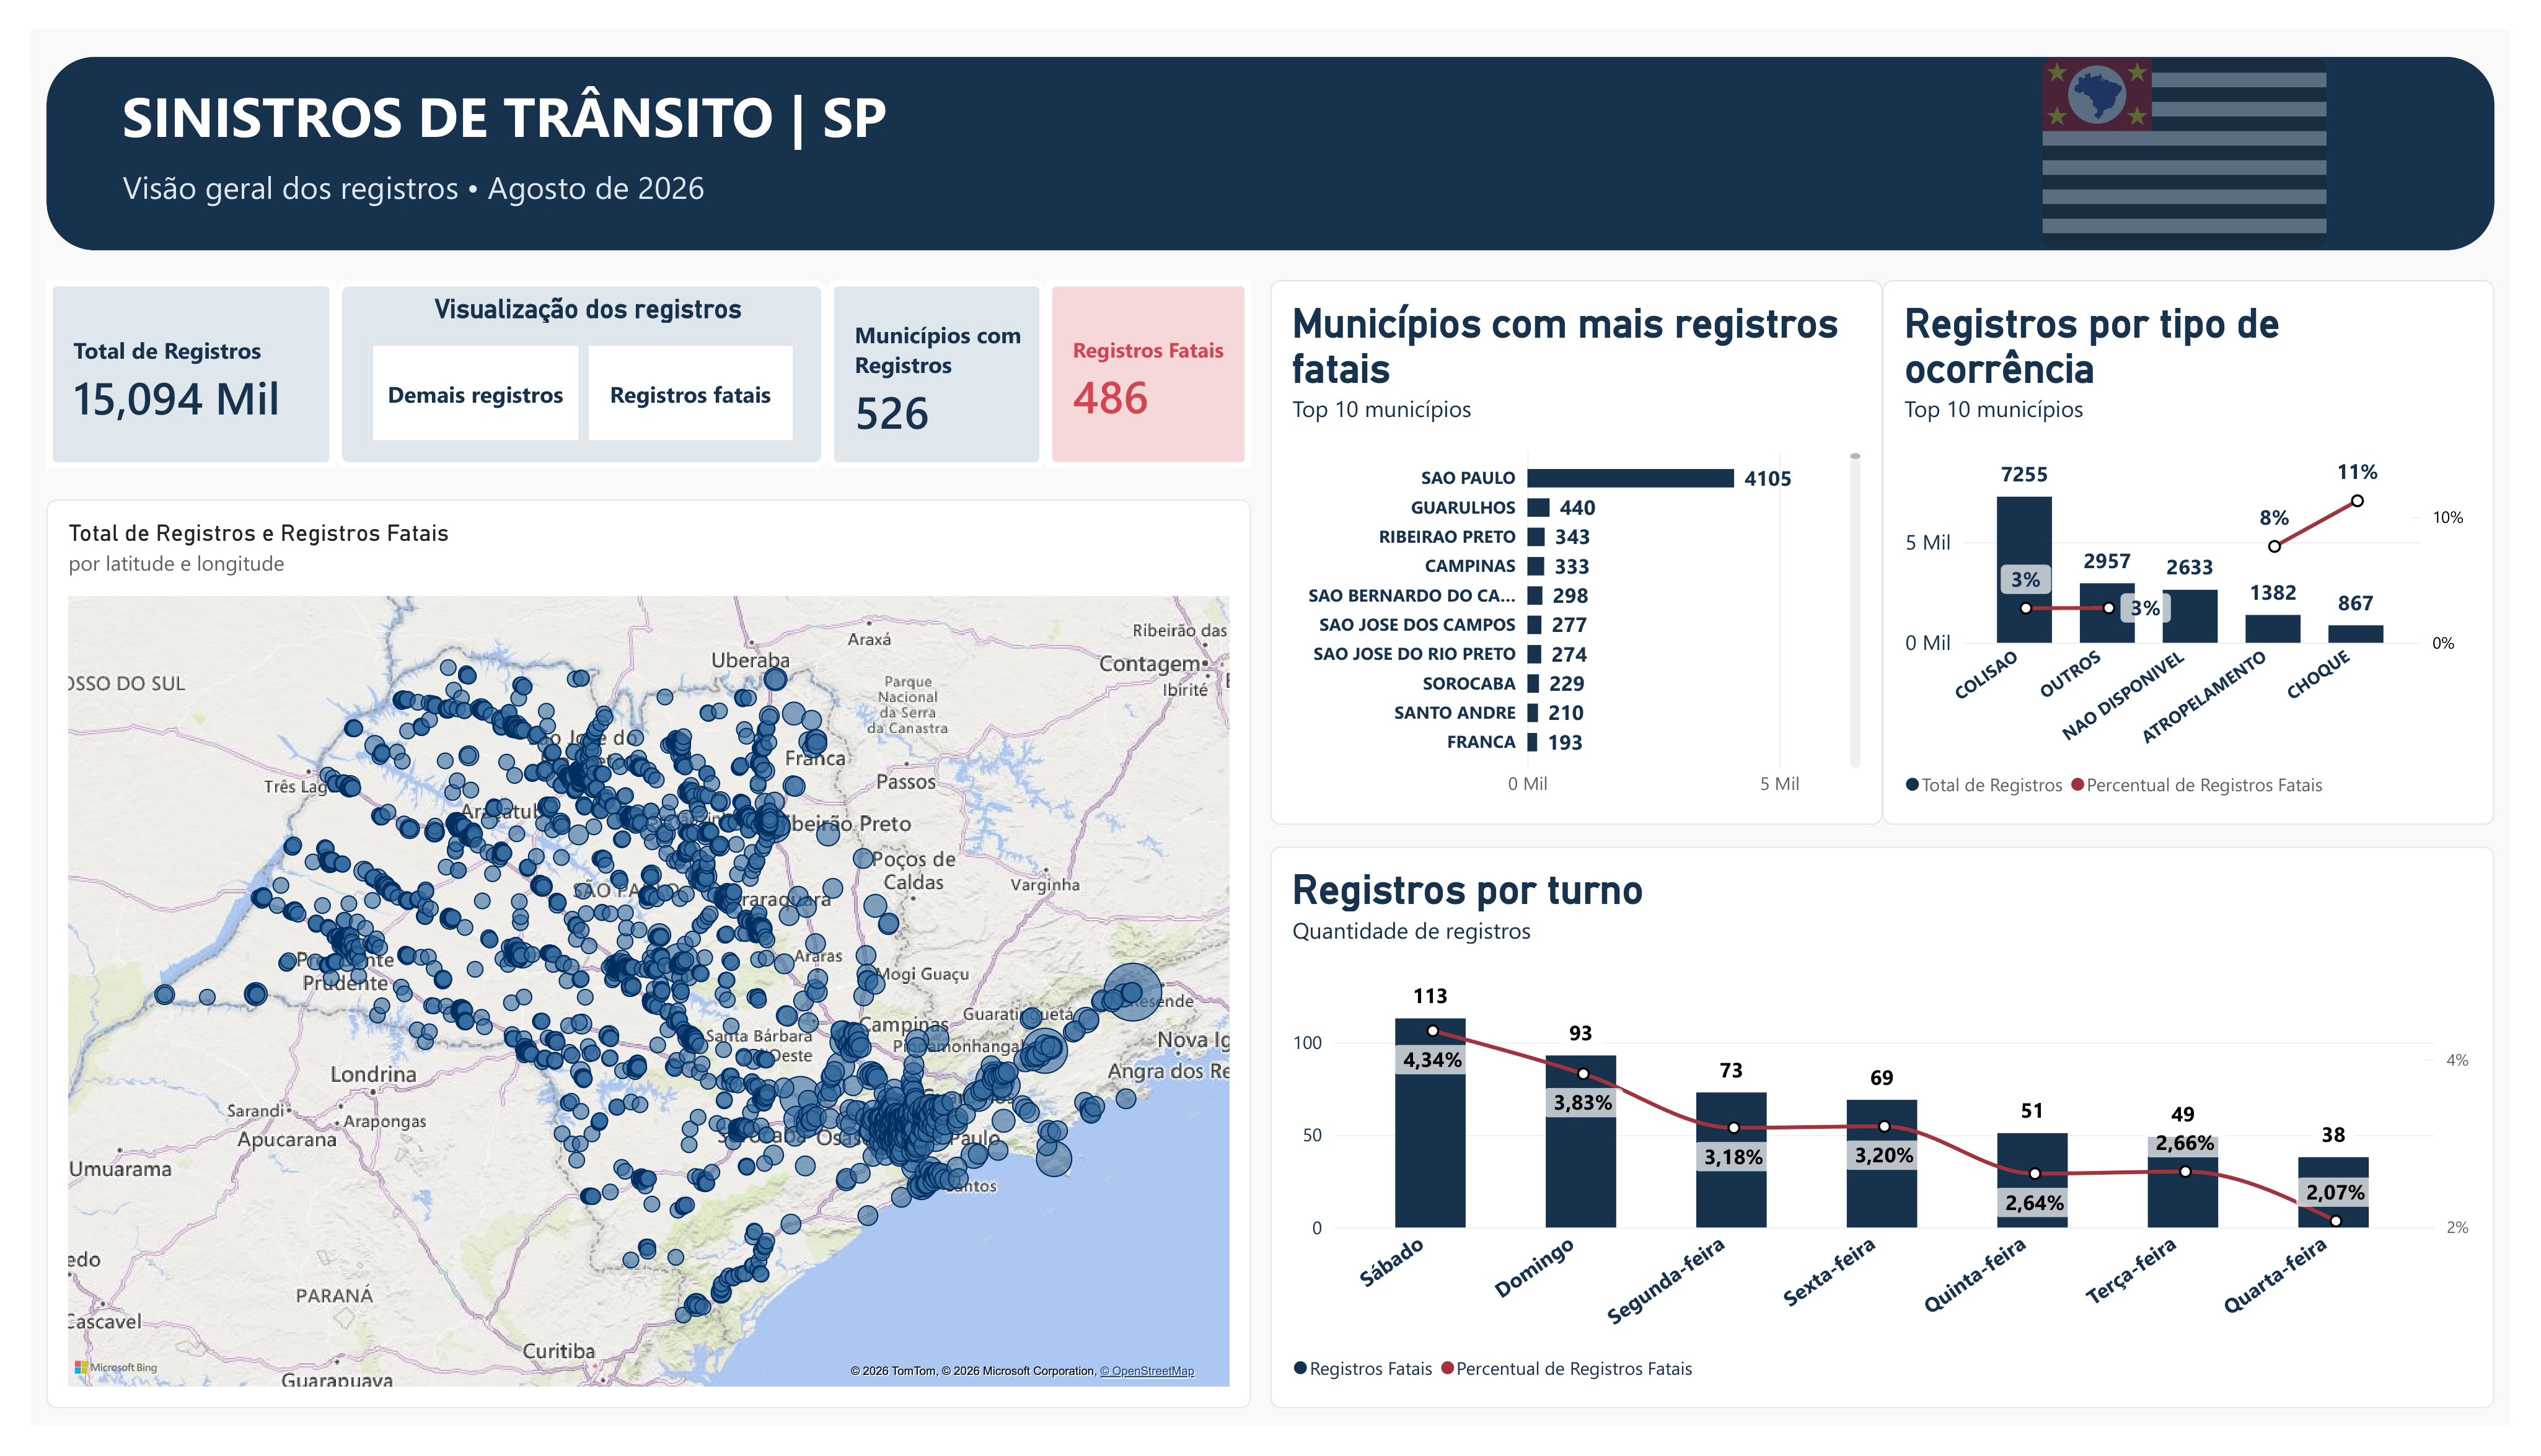

The dashboard page shown, as its layout file describes it:
{"tool":"powerbi","page":{"name":"Página 2 — Onde e quando?","canvas":[1920,1080],"ordinal":1},"visuals":[{"type":"shape","box":[12.1,20.2,1896.1,149.5],"z":0},{"type":"textbox","box":[0,36.4,865.9,133.3],"z":1000},{"type":"textbox","box":[71.4,103.7,599.3,53.9],"z":2000},{"type":"lineClusteredColumnComboChart","title":"Registros por turno","fields":{"Category":["Sinistros.dia_da_semana"],"Y":["Sinistros.Registros Fatais"],"Y2":["Sinistros.Percentual de Registros Fatais"]},"box":[960.1,631.6,948,435],"z":3000},{"type":"barChart","title":"Municípios com mais registros fatais","fields":{"Category":["Sinistros.municipio"],"Y":["Sinistros.Total de Registros"]},"box":[960.1,192.6,474,422.8],"z":4000},{"type":"image","box":[1558.2,20.4,220.3,148.8],"z":5000},{"type":"map","fields":{"Size":["Sinistros.Total de Registros"],"X":["Sinistros.longitude"],"Y":["Sinistros.latitude"]},"box":[11.7,363.3,933.7,703.2],"z":6000},{"type":"cardVisual","fields":{"Data":["Sinistros.Registros Fatais"]},"box":[786.4,192.6,158.9,146.8],"z":7000},{"type":"cardVisual","fields":{"Data":["Sinistros.Total de Registros"]},"box":[12.1,192.6,223.5,146.8],"z":8000},{"type":"cardVisual","fields":{"Data":["Sinistros.Municípios com Registros"]},"box":[616.8,192.6,169.7,146.8],"z":9000},{"type":"lineClusteredColumnComboChart","title":"Registros por tipo de ocorrência","fields":{"Category":["Sinistros.tp_sinistro_primario"],"Y":["Sinistros.Total de Registros"],"Y2":["Sinistros.Percentual de Registros Fatais"]},"box":[1434.2,192.6,474,422.8],"z":10000},{"type":"slicer","title":"Visualização dos registros","fields":{"Values":["Sinistros.Classificação Fatalidade"]},"box":[235.7,192.6,381.1,146.8],"z":11000}]}

Visuals, with their boxes on the page's 1920x1080 design canvas (x1, y1, x2, y2). These are canvas units, not pixel positions in the 2541x1456 screenshot, which may show the page scaled, cropped or inside an application window:
shape: box=[12, 20, 1908, 170]
textbox: box=[0, 36, 866, 170]
textbox: box=[71, 104, 671, 158]
"Registros por turno" lineClusteredColumnComboChart: box=[960, 632, 1908, 1067]
"Municípios com mais registros fatais" barChart: box=[960, 193, 1434, 615]
image: box=[1558, 20, 1778, 169]
map - Sinistros.Total de Registros x Sinistros.longitude: box=[12, 363, 945, 1066]
cardVisual - Sinistros.Registros Fatais: box=[786, 193, 945, 339]
cardVisual - Sinistros.Total de Registros: box=[12, 193, 236, 339]
cardVisual - Sinistros.Municípios com Registros: box=[617, 193, 786, 339]
"Registros por tipo de ocorrência" lineClusteredColumnComboChart: box=[1434, 193, 1908, 615]
"Visualização dos registros" slicer: box=[236, 193, 617, 339]
